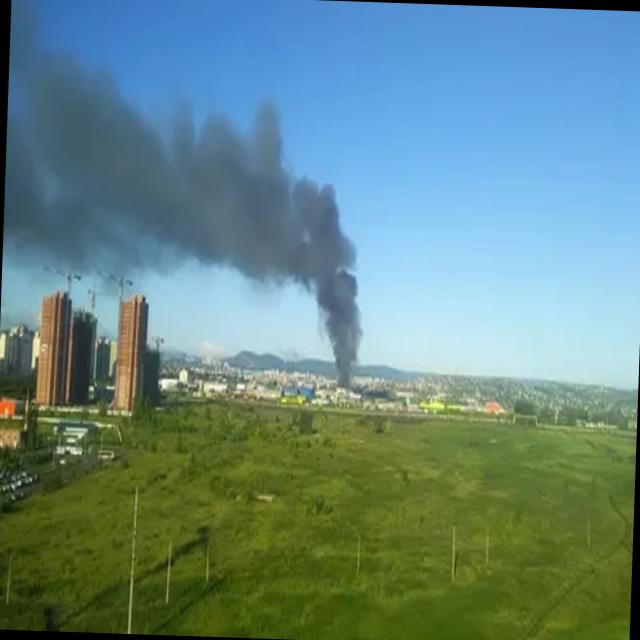Smoke: (138, 153, 371, 388)
